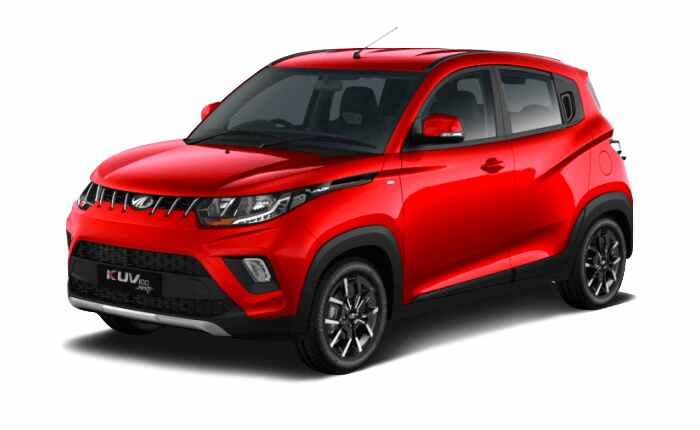Car: (61, 33, 643, 381)
